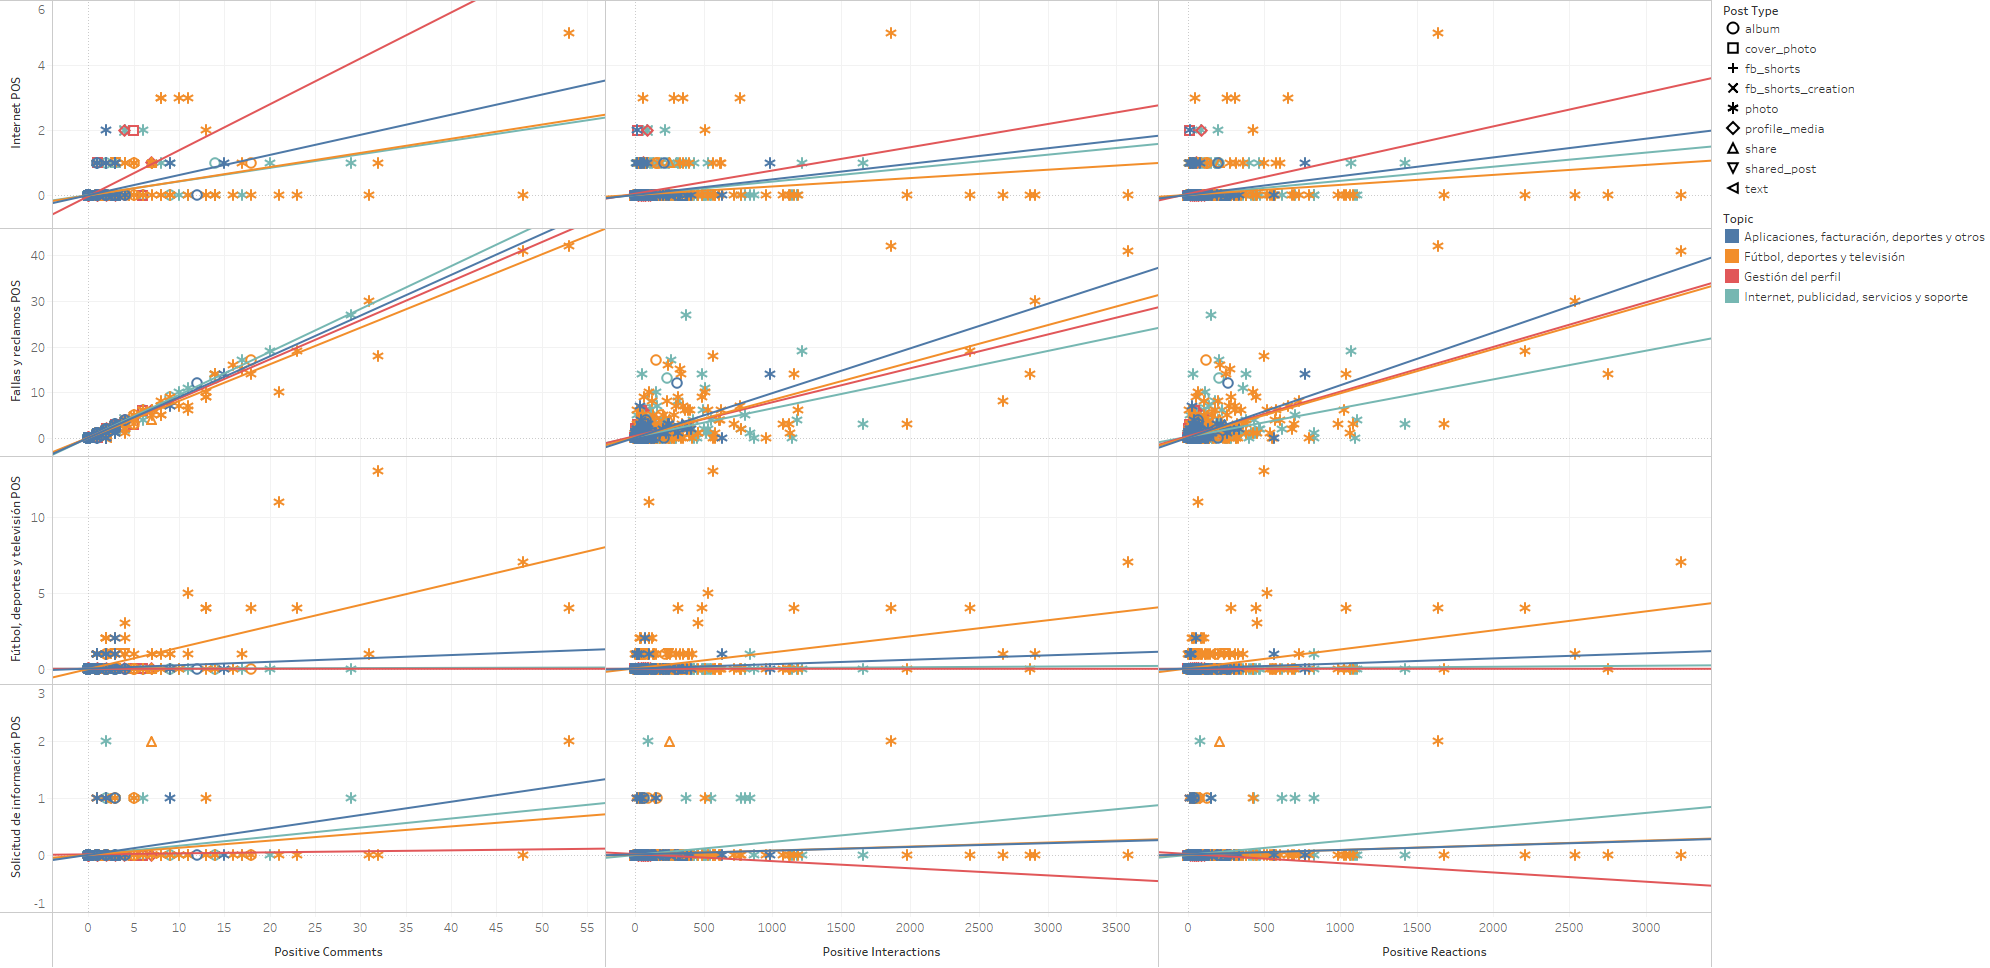

This screenshot's page, from the dashboard's own definition file:
{"tool":"tableau","page":{"name":"Interacciones por polaridad y tópicos Dashboard","canvas":[850,1100],"ordinal":1},"visuals":[{"type":"worksheet","title":"Interacciones neutrales y sentimientos por tópicos","mark":"Shape","rows":["Internet_NEU","Fallas y reclamos_NEU","Fútbol, deportes y televisión_NEU","Solicitud de información_NEU"],"cols":["Calculation_744219881121890312","Calculation_744219881119596550","Calculation_744219881121411079"],"box":[8,8,674,1084]},{"type":"legend","title":"Interacciones neutrales y sentimientos por tópicos","param":"[federated.1sww35l1iechlw1awsbao0zzbgp5].[none:topic:nk]","box":[682,8,160,106]},{"type":"legend","title":"Interacciones neutrales y sentimientos por tópicos","param":"[federated.1sww35l1iechlw1awsbao0zzbgp5].[none:Post Type:nk]","box":[682,114,160,206]}]}

Visuals, with their boxes on the page's 850x1100 design canvas (x1, y1, x2, y2). These are canvas units, not pixel positions in the 1990x968 screenshot, which may show the page scaled, cropped or inside an application window:
"Interacciones neutrales y sentimientos por tópicos" worksheet (Shape marks): select_region(8, 8, 682, 1092)
"Interacciones neutrales y sentimientos por tópicos" legend: select_region(682, 8, 842, 114)
"Interacciones neutrales y sentimientos por tópicos" legend: select_region(682, 114, 842, 320)
